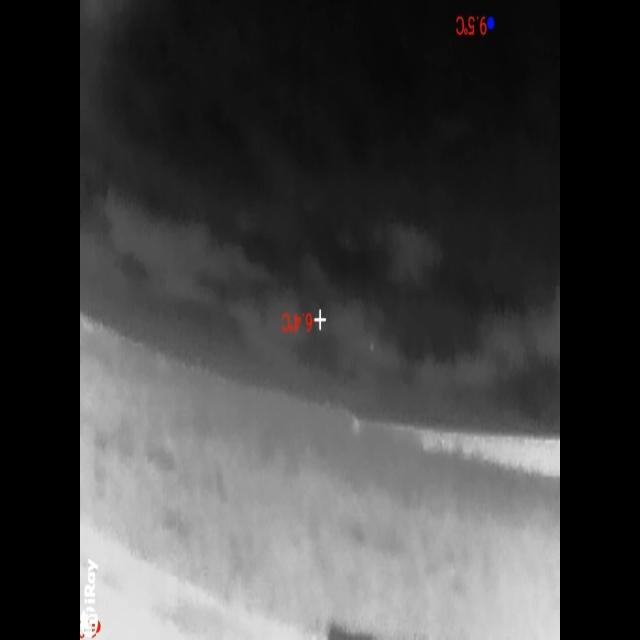drone: (370, 341, 374, 354)
